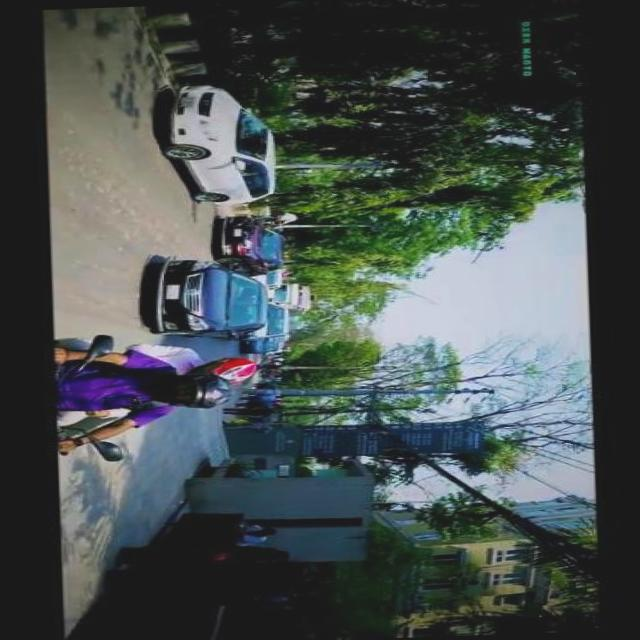bus: (294, 283, 316, 315)
car: (168, 81, 280, 207), (156, 254, 270, 338), (219, 212, 289, 276), (247, 338, 283, 352), (262, 269, 286, 290)
truck: (251, 301, 293, 339), (272, 280, 300, 308)
